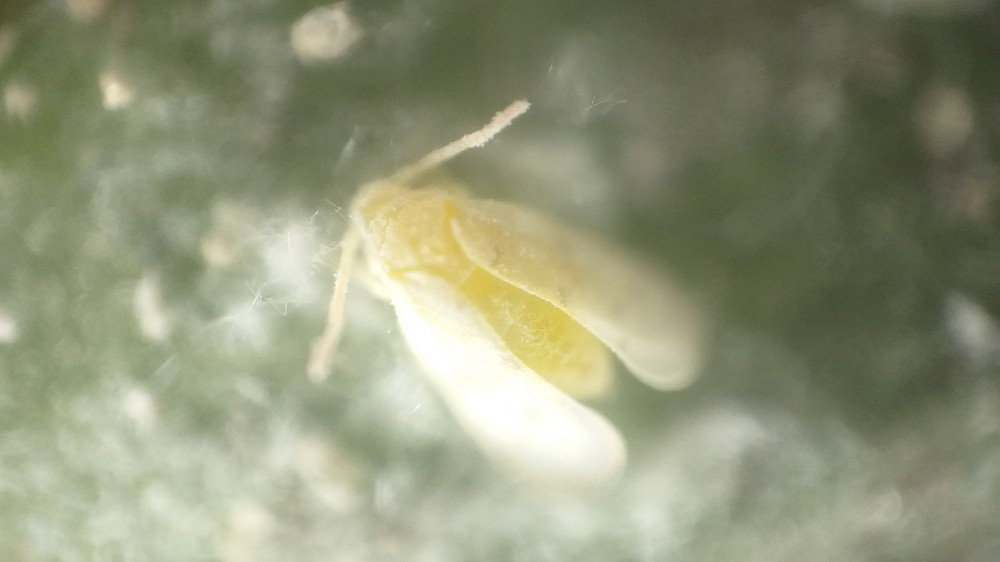Mosca Blanca: (297, 90, 736, 527)
